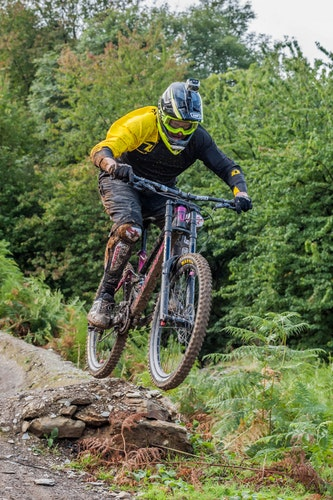helmet: (154, 78, 205, 155)
